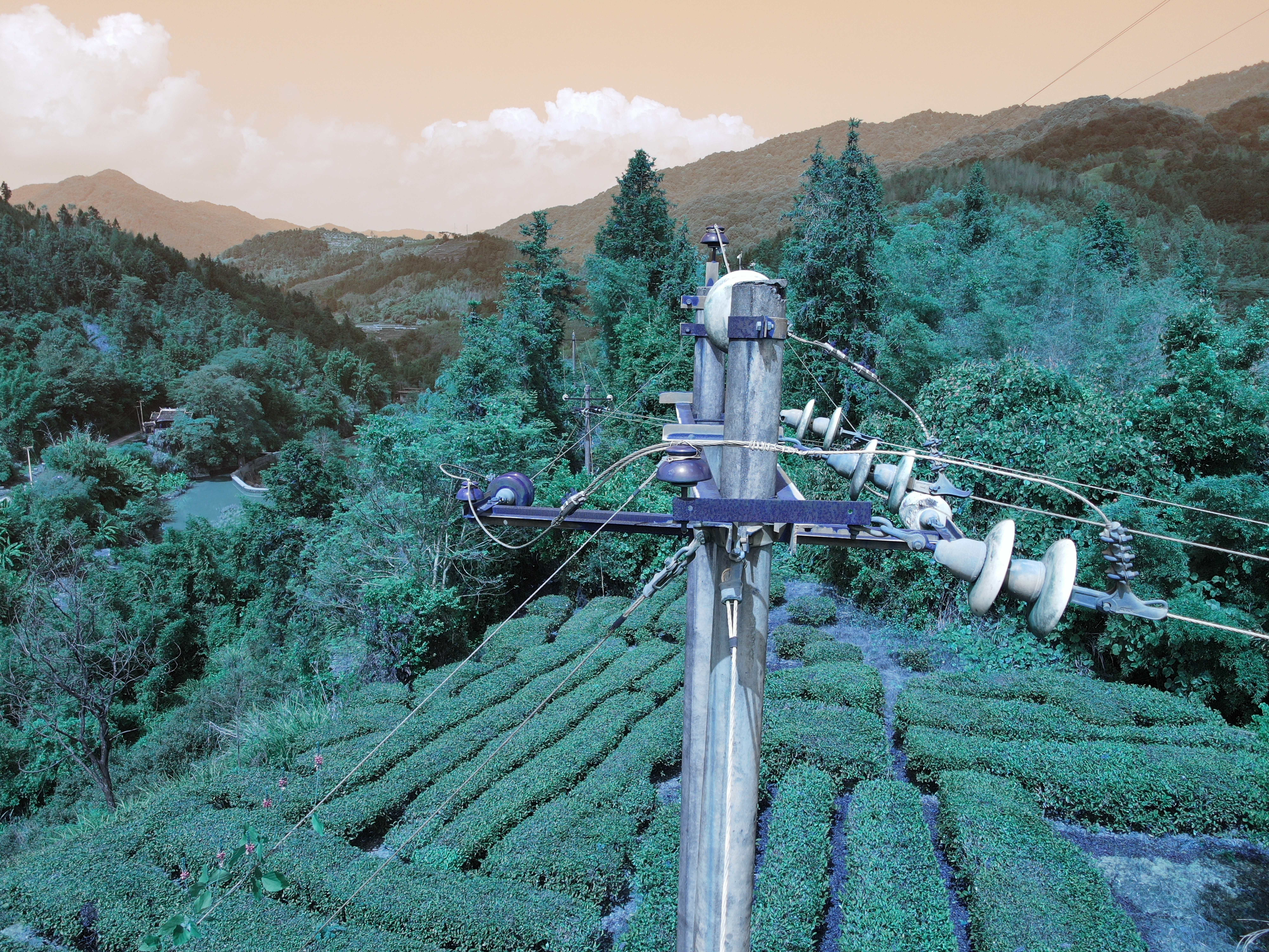severe_soiling_no_discharge_whole: (929, 516, 1079, 637), (825, 435, 917, 515), (704, 265, 774, 356), (778, 396, 846, 450), (897, 489, 953, 530), (486, 470, 537, 508)
